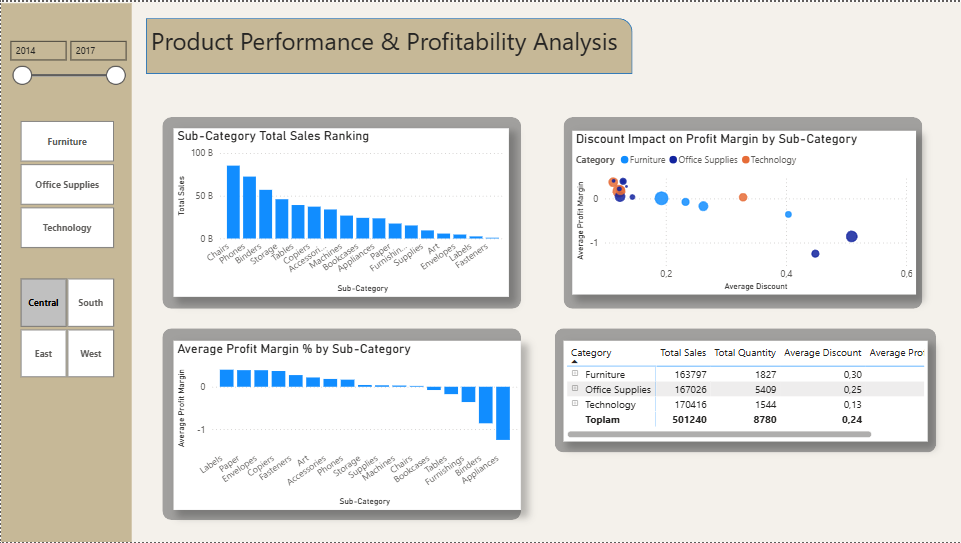

The page's visual inventory and layout, read from the dashboard file:
{"tool":"powerbi","page":{"name":"Product Performance & profitability analysis","canvas":[1280,720],"ordinal":1},"visuals":[{"type":"shape","box":[738.6,435.7,508.6,165.7],"z":0},{"type":"shape","box":[214.3,152.9,478.6,255.7],"z":1000},{"type":"shape","box":[215.7,435.7,478.6,255.7],"z":2000},{"type":"shape","box":[750,152.9,478.6,255.7],"z":3000},{"type":"columnChart","title":"Sub-Category Total Sales Ranking","fields":{"Category":["RetailDataSet_ForPowerBI.Sub-Category"],"Y":["Sum(RetailDataSet_ForPowerBI.Sales)"]},"box":[229.2,167.5,447.5,225],"z":4000},{"type":"columnChart","title":"Average Profit Margin % by Sub-Category","fields":{"Category":["RetailDataSet_ForPowerBI.Sub-Category"],"Y":["RetailDataSet_ForPowerBI.Average Profit Margin"]},"box":[230,451.5,463.1,225.4],"z":5000},{"type":"scatterChart","title":"Discount Impact on Profit Margin by Sub-Category","fields":{"X":["RetailDataSet_ForPowerBI.Average Discount"],"Y":["RetailDataSet_ForPowerBI.Average Profit Margin"],"Category":["RetailDataSet_ForPowerBI.Sub-Category"],"Series":["RetailDataSet_ForPowerBI.Category"],"Size":["Sum(RetailDataSet_ForPowerBI.Sales)"]},"box":[761.4,171.4,458.6,218.6],"z":6000},{"type":"pivotTable","fields":{"Rows":["RetailDataSet_ForPowerBI.Category","RetailDataSet_ForPowerBI.Sub-Category","RetailDataSet_ForPowerBI.Product Name"],"Values":["Sum(RetailDataSet_ForPowerBI.Sales)","Sum(RetailDataSet_ForPowerBI.Quantity)","RetailDataSet_ForPowerBI.Average Discount","RetailDataSet_ForPowerBI.Average Profit Margin"]},"box":[750,451.4,485.7,134.3],"z":7000},{"type":"shape","box":[0,1.4,174.3,718.6],"z":8000},{"type":"shape","box":[192.9,21.4,648.6,74.3],"z":9000},{"type":"slicer","fields":{"Values":["RetailDataSet_ForPowerBI.Order Year"]},"box":[0,41.4,174.3,110],"z":10000},{"type":"slicer","fields":{"Values":["RetailDataSet_ForPowerBI.Category"]},"box":[0,151.4,174.3,182.9],"z":11000},{"type":"slicer","fields":{"Values":["RetailDataSet_ForPowerBI.Region"]},"box":[0,361.4,174.3,145.7],"z":12000},{"type":"textbox","box":[194.3,24.3,725.7,72.9],"z":13000}]}

Visuals, with their boxes in screenshot pixels (x1, y1, x2, y2), scaled from the page's 1280x720 canvas onto the 961x543 screenshot:
shape: (555,329,936,454)
shape: (161,115,520,308)
shape: (162,329,521,521)
shape: (563,115,922,308)
"Sub-Category Total Sales Ranking" columnChart: (172,126,508,296)
"Average Profit Margin % by Sub-Category" columnChart: (173,341,520,510)
"Discount Impact on Profit Margin by Sub-Category" scatterChart: (572,129,916,294)
pivotTable - RetailDataSet_ForPowerBI.Category x RetailDataSet_ForPowerBI.Sub-Category: (563,340,928,442)
shape: (0,1,131,542)
shape: (145,16,632,72)
slicer - RetailDataSet_ForPowerBI.Order Year: (0,31,131,114)
slicer - RetailDataSet_ForPowerBI.Category: (0,114,131,252)
slicer - RetailDataSet_ForPowerBI.Region: (0,273,131,382)
textbox: (146,18,691,73)
